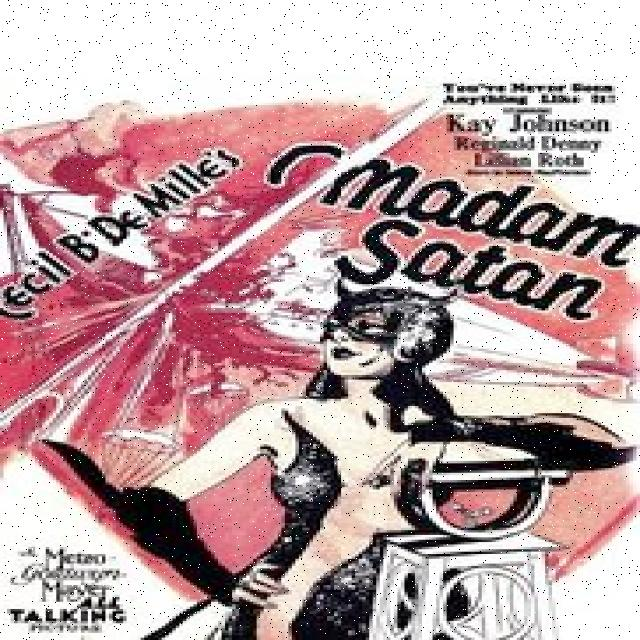movie-judul: (267, 144, 638, 314)
picture: (70, 293, 568, 635)
